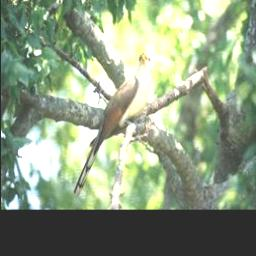Cuckoo: (72, 47, 155, 199)
